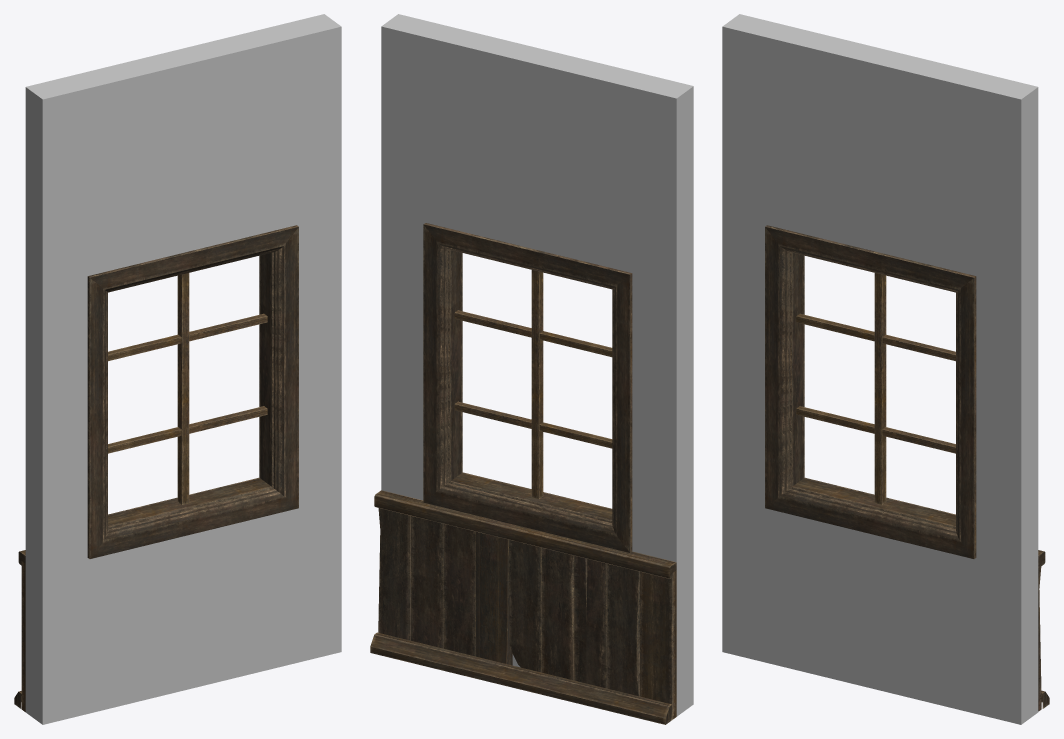
The model's file is SM_Wall_Win_2m_DG.fbx.
3 renders of one model, left to right at view 1: azimuth 30°, elevation 25°; view 2: azimuth 150°, elevation 25°; view 3: azimuth 330°, elevation 25°, orthographic.
Parts seen in each view (by area): view 1: SM_Wall_Win_2m_DG; view 2: SM_Wall_Win_2m_DG; view 3: SM_Wall_Win_2m_DG.
Part boxes in pixels (left/top/right/bottom): SM_Wall_Win_2m_DG: left=14, top=14, right=341, bottom=724; SM_Wall_Win_2m_DG: left=370, top=14, right=693, bottom=724; SM_Wall_Win_2m_DG: left=722, top=14, right=1049, bottom=724.
Size of the model in its own units: 2 by 4 by 0.355.
